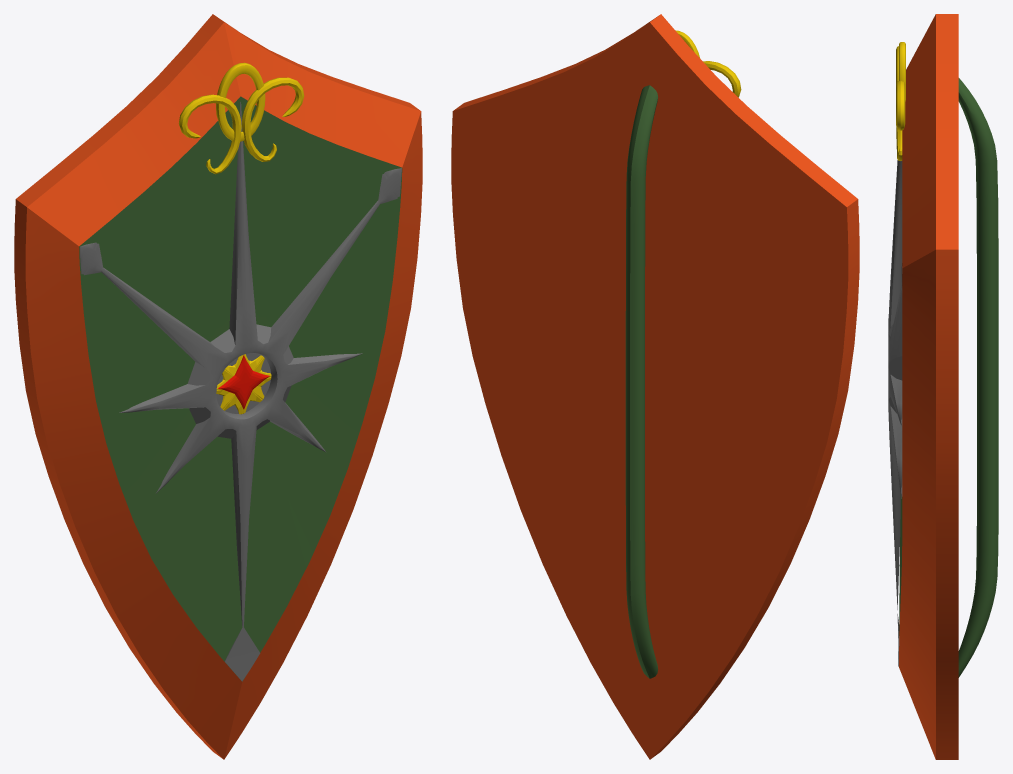
The model's file is Sheld.fbx.
3 views of the same model, side by side, from view 1: azimuth 30°, elevation 25°; view 2: azimuth 150°, elevation 25°; view 3: azimuth 270°, elevation 25° (orthographic).
Parts seen in each view (by area): view 1: Cube; view 2: Cube; view 3: Cube.
Part boxes in pixels (<box>): Cube: <box>14,14,422,759</box>; Cube: <box>451,14,859,759</box>; Cube: <box>888,14,998,759</box>.
Bounding box in the file's own units: 267 × 475 × 63.81.
